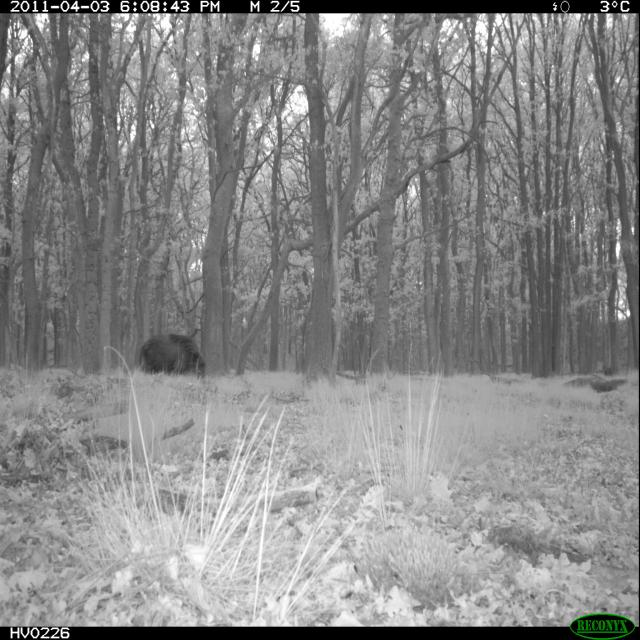boar: (115, 307, 211, 398)
